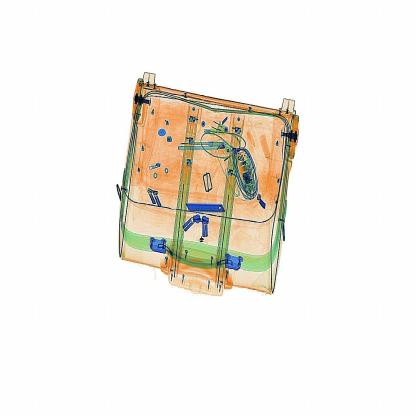gun: (182, 195, 230, 221)
